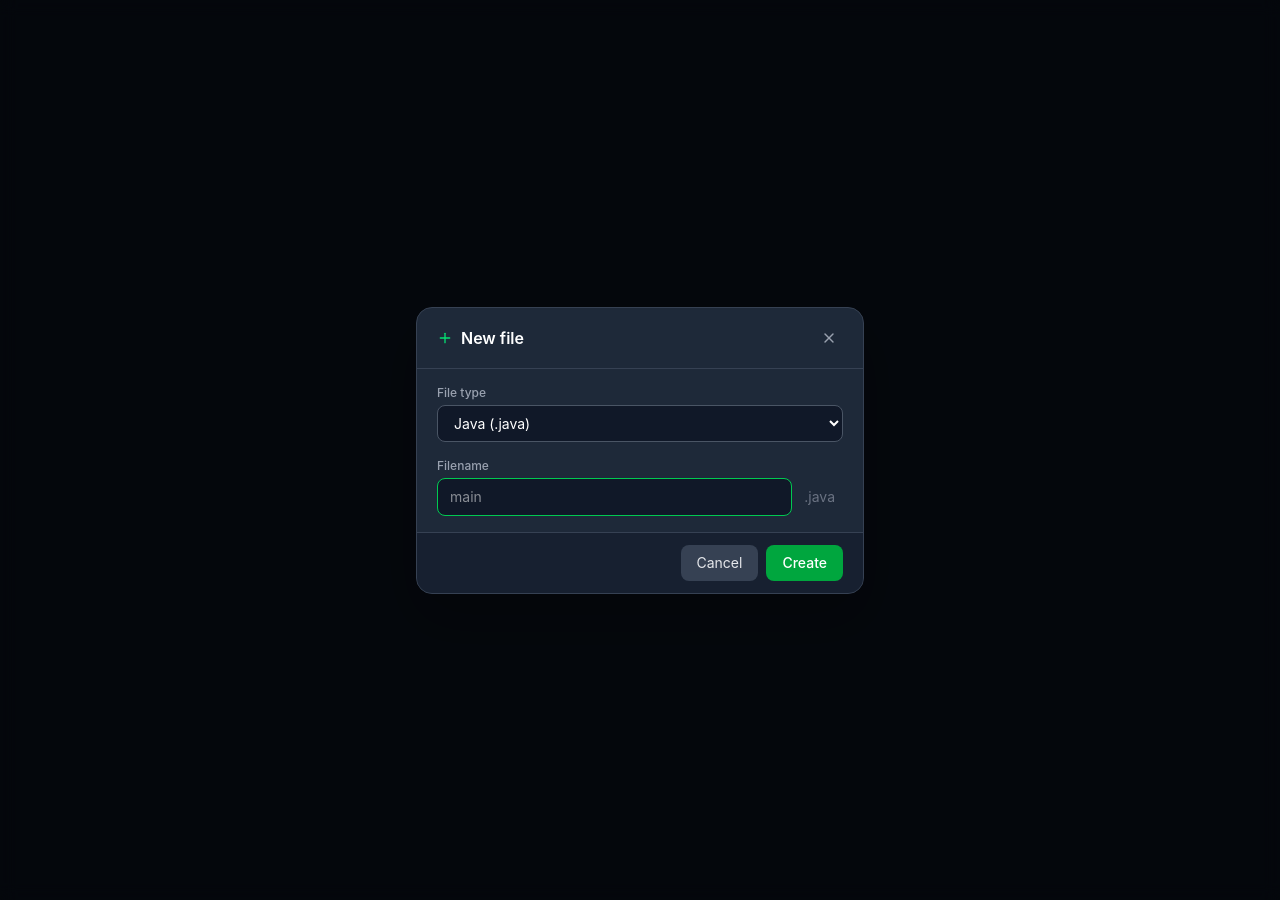
Scenario: NewFileModal › shows error when confirming with empty filename
What coordinates should you click on to do the following:
click the button "Create"
I would click on:
 (805, 562)
Its box is 766,544 -> 843,580.
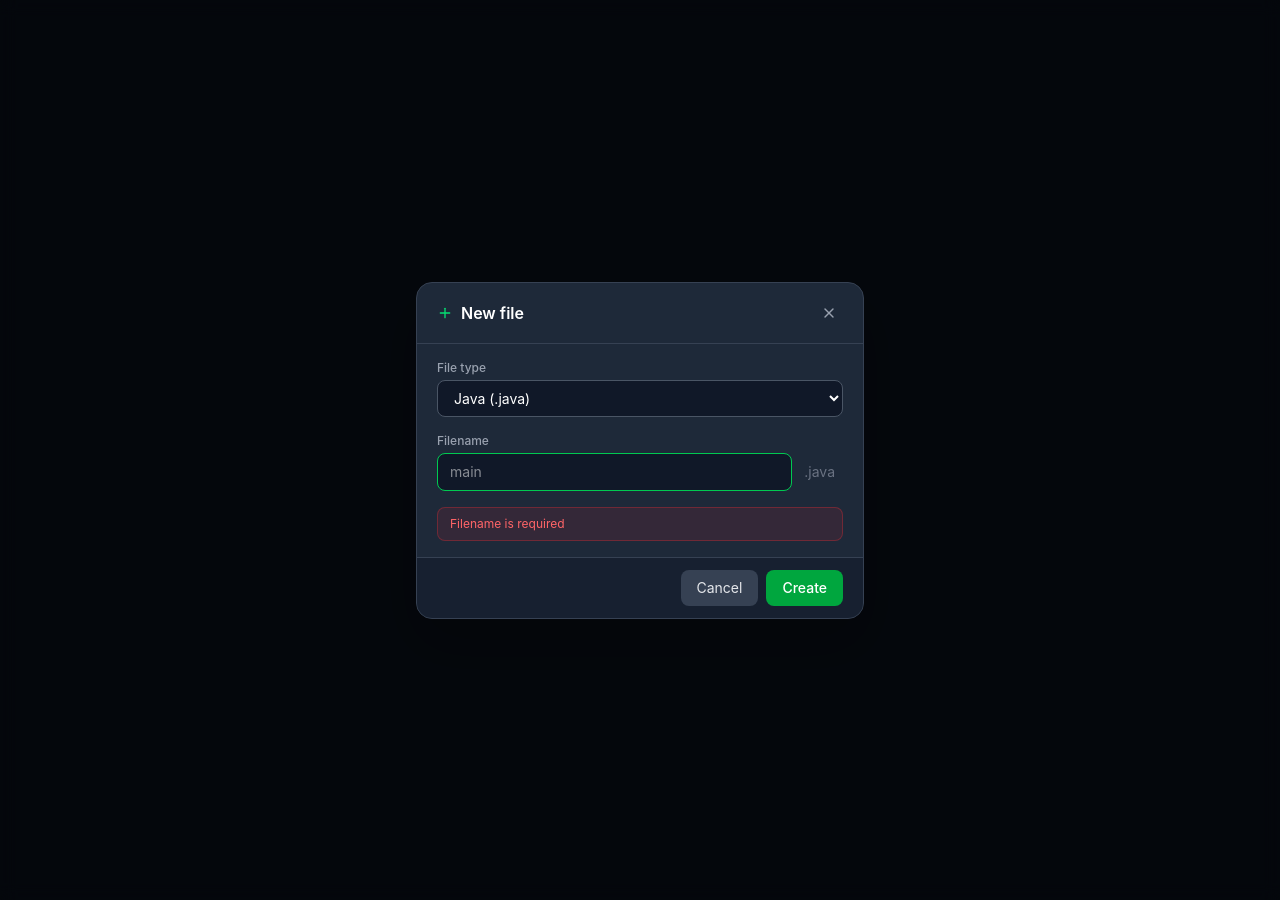
Expected: the text "Filename is required" is shown, 437,506 -> 843,540
